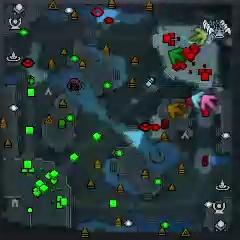x1: (200, 93, 217, 112)
x2: (190, 28, 208, 46)
x3: (192, 92, 204, 108)
x4: (168, 48, 185, 63)
x5: (167, 103, 184, 119)
